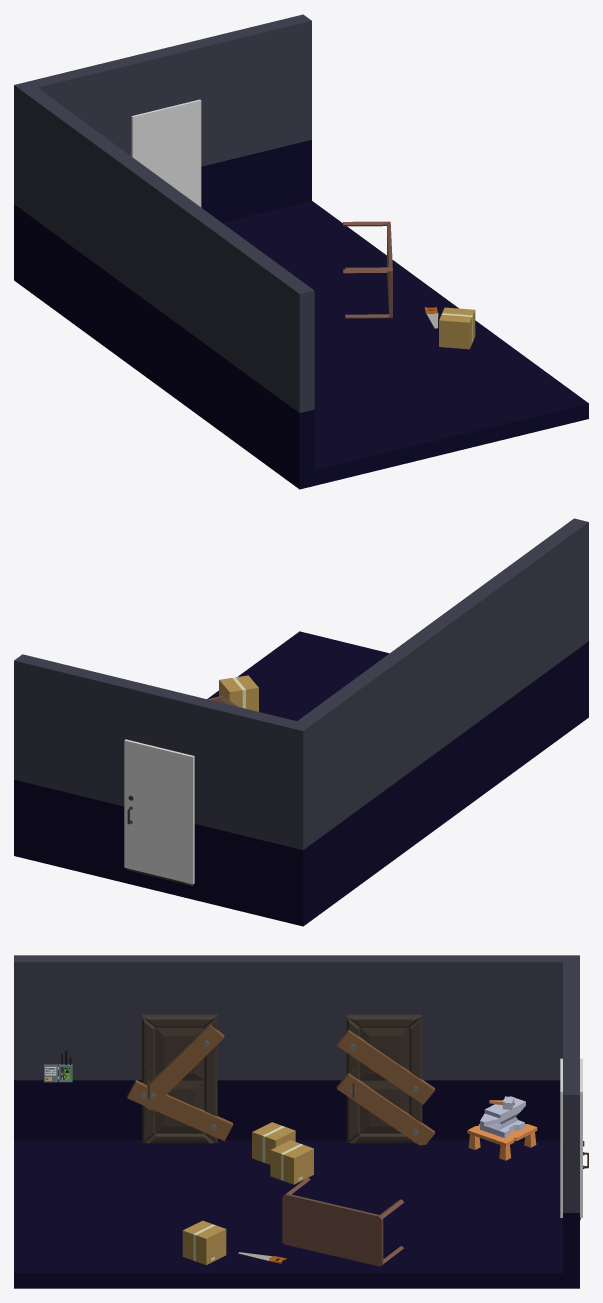
File: room1new.fbx
3 views of the same model, one above another, from view 1: azimuth 30°, elevation 25°; view 2: azimuth 150°, elevation 25°; view 3: azimuth 270°, elevation 25° (orthographic).
Parts seen in each view (by area): view 1: Cube.003, Cube, Cube.026, pCube27; view 2: Cube.003, Cube, Cube.026; view 3: Cube.003, Door1.002, Door1.001, pCube27, workbenchAnvil, Cube.006, Cube.007, Cube.005, Cube.001, Cube.026, Cube.004, Cube.002 (+1 smaller).
Part boxes in pixels (x1,y1,x2,y2): Cube.003: (14,14,588,489); Cube: (131,99,201,207); Cube.026: (439,307,475,349); pCube27: (343,221,392,318); Cube.003: (14,518,588,926); Cube: (124,739,194,884); Cube.026: (219,675,258,711); Cube.003: (14,955,579,1288); Door1.002: (142,1014,217,1143); Door1.001: (346,1014,422,1143); pCube27: (282,1177,404,1266); workbenchAnvil: (467,1096,537,1160); Cube.006: (336,1029,434,1104); Cube.007: (336,1073,434,1145); Cube.005: (142,1024,224,1110); Cube.001: (127,1080,233,1141); Cube.026: (182,1220,226,1265); Cube.004: (270,1140,313,1184); Cube.002: (252,1122,295,1164).
Size of the model in its own units: 1370 by 884 by 2381.
